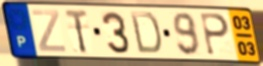3: (100, 10, 132, 56)
9: (171, 11, 203, 57)
D: (128, 10, 163, 57)
P: (199, 11, 231, 58)
T: (63, 8, 89, 56)
Z: (30, 9, 68, 54)
